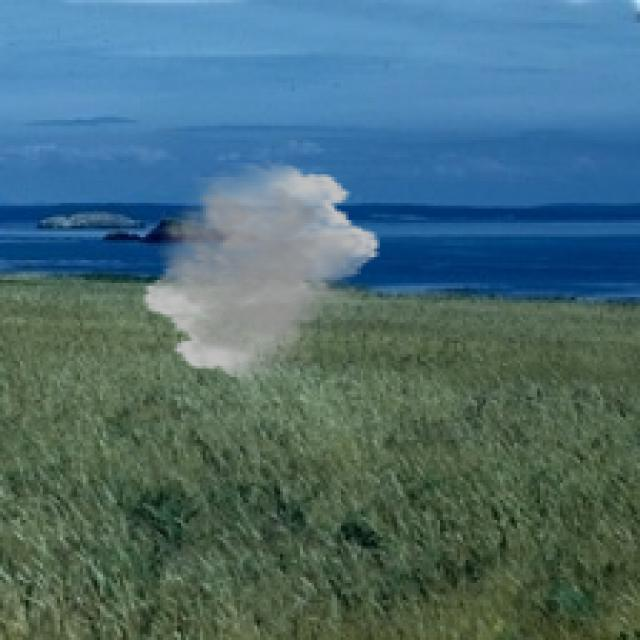Smoke: (140, 160, 383, 383)
